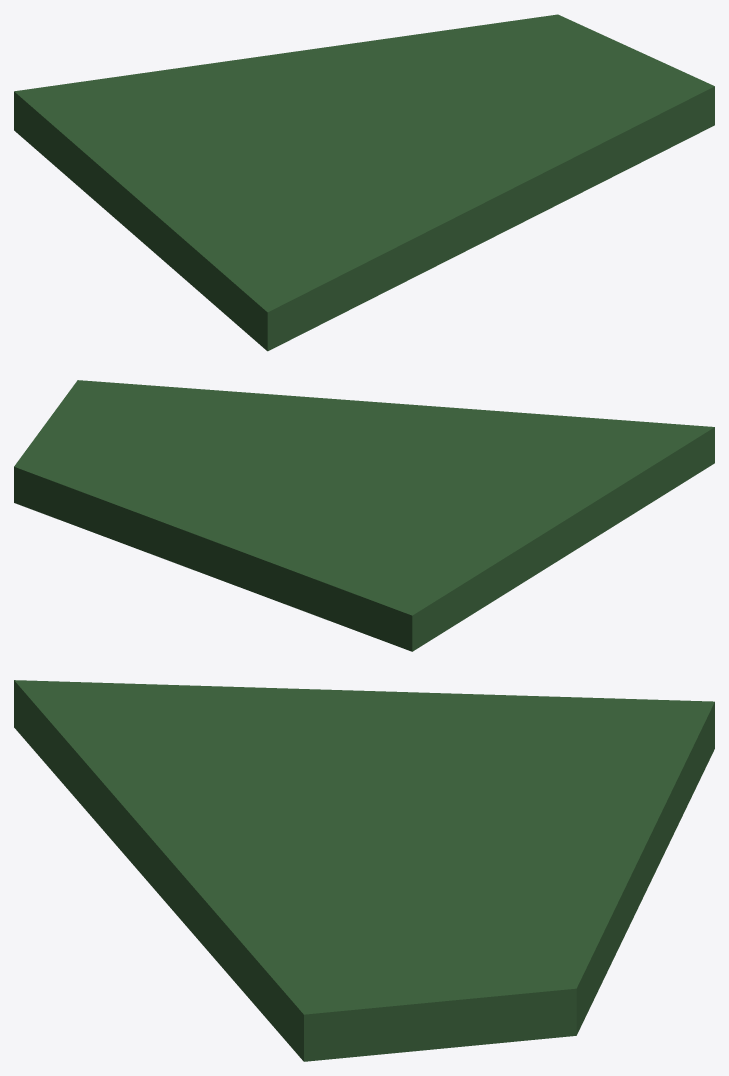
The model's file is x_proval_00_219_1_rmstrd.fbx.
3 views of the same model, one above another, from view 1: azimuth 30°, elevation 25°; view 2: azimuth 150°, elevation 25°; view 3: azimuth 270°, elevation 25° (orthographic). The views are drawn at different scales.
Parts seen in each view (by area): view 1: x_proval_00_219_1_rmstrd1; view 2: x_proval_00_219_1_rmstrd1; view 3: x_proval_00_219_1_rmstrd1.
Part boxes in pixels (x1,y1,x2,y2): x_proval_00_219_1_rmstrd1: (14,14,714,351); x_proval_00_219_1_rmstrd1: (14,380,714,651); x_proval_00_219_1_rmstrd1: (14,680,714,1061).
Size of the model in its own units: 3.04 by 0.2 by 2.69.
